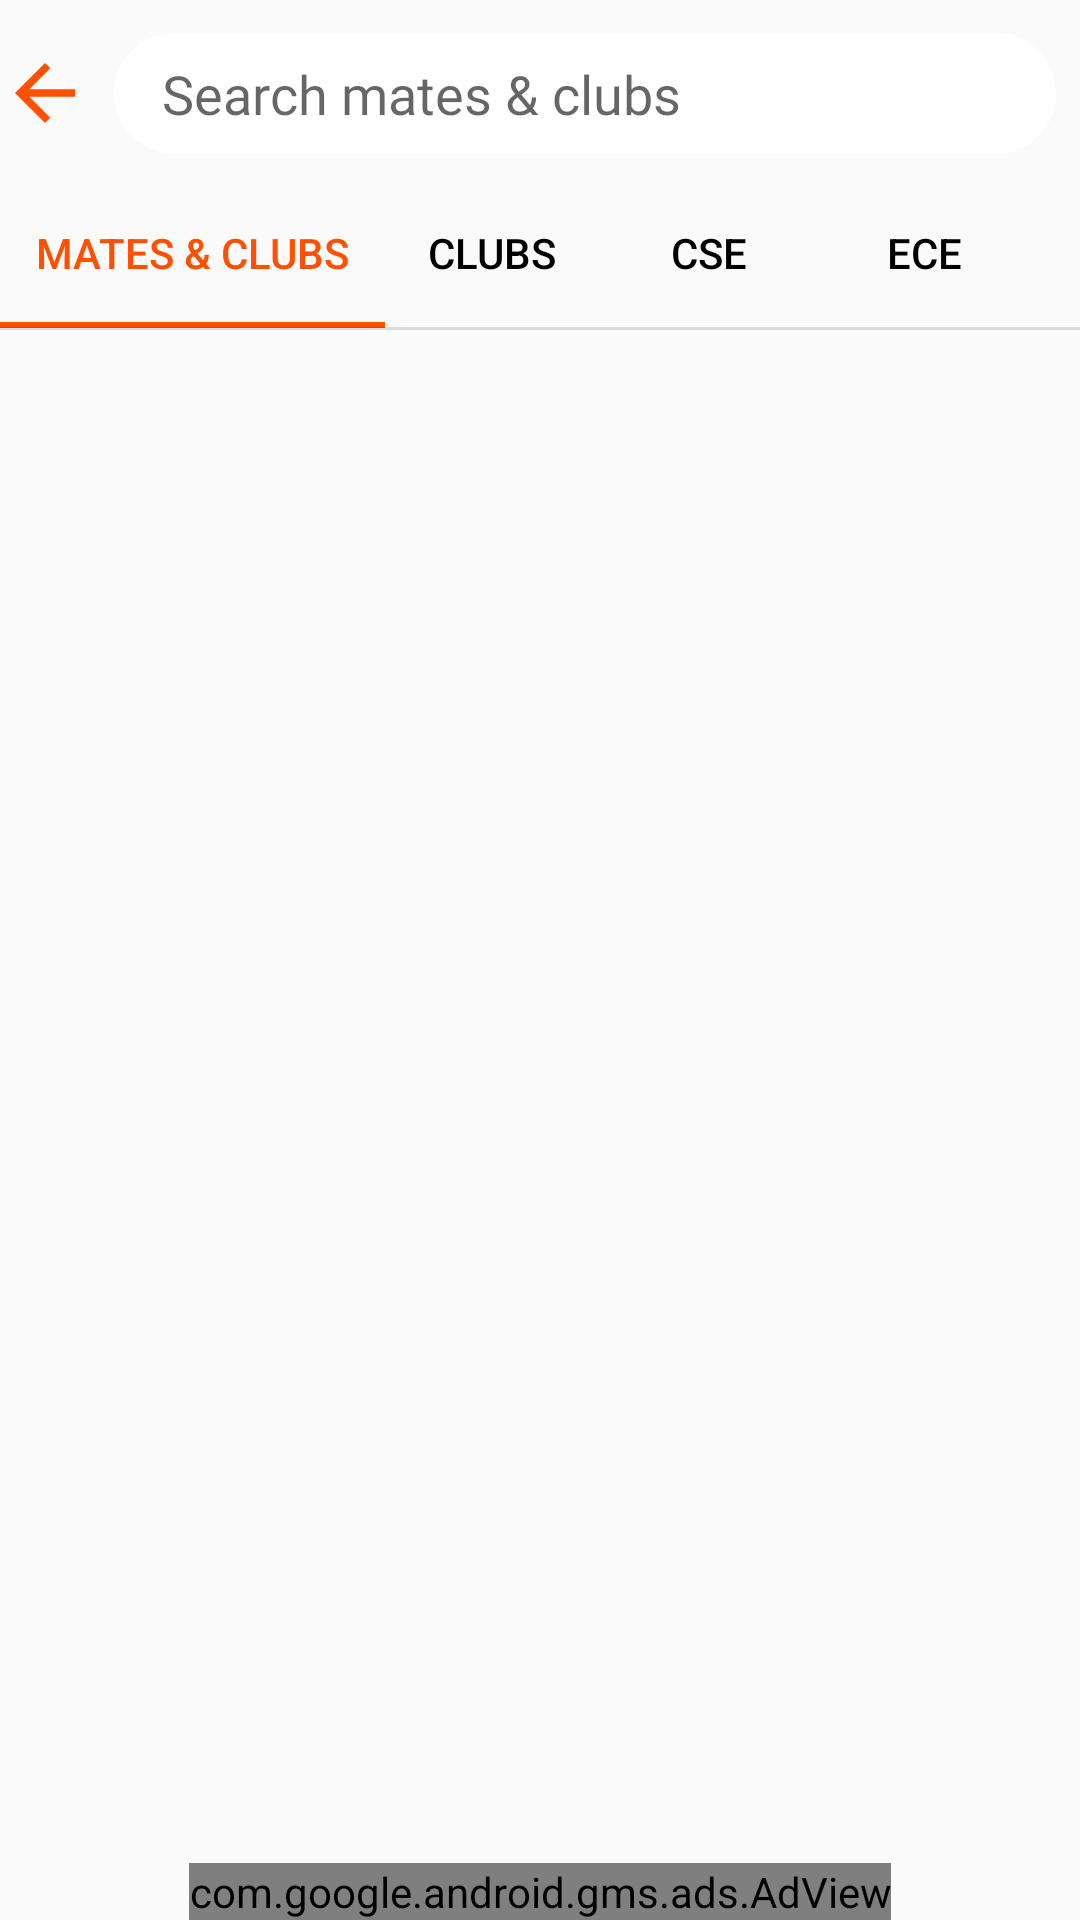

Named icons in this screenshot (1080w x 1920h) and their bounding boxes, (x1, y1, x2, y2):
arrow back: (15, 63, 75, 123)
